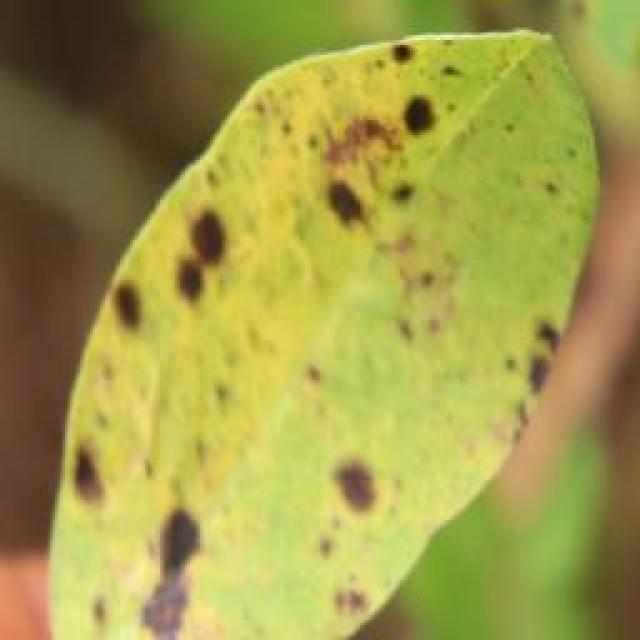Yellowish: (48, 30, 572, 640)
